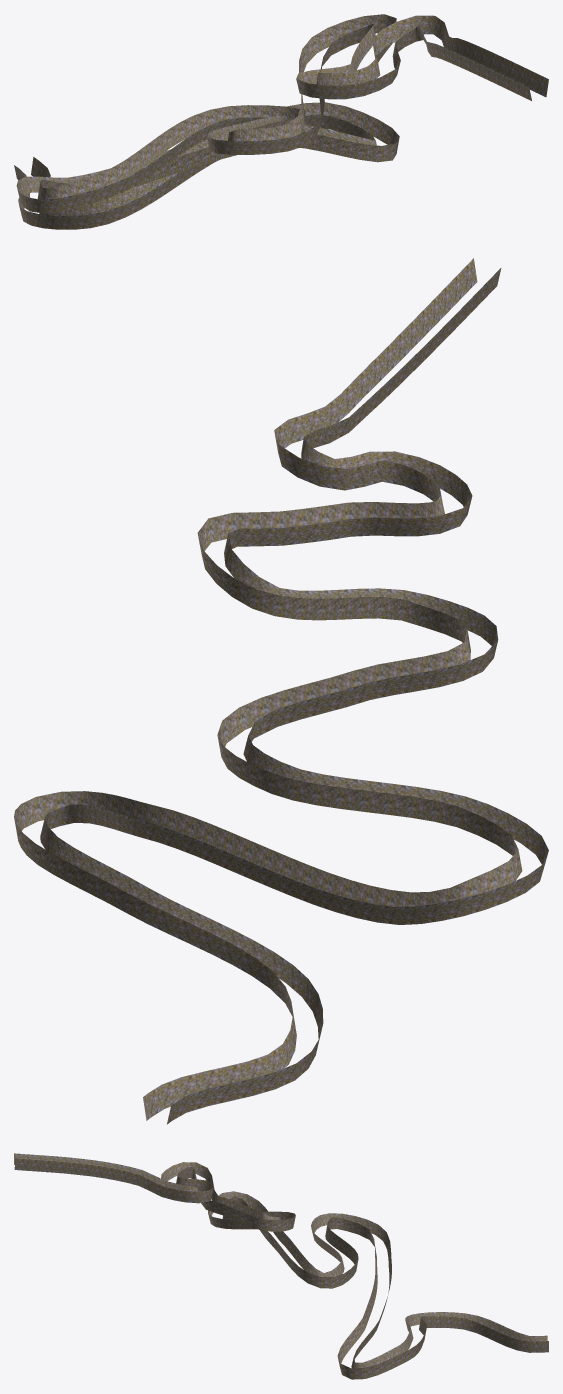
The model's file is Road_walls.fbx.
3 renders of one model, top to bottom at view 1: azimuth 30°, elevation 25°; view 2: azimuth 150°, elevation 25°; view 3: azimuth 270°, elevation 25°, orthographic. The views are drawn at different scales.
Visible parts, largest first — view 1: PM3D_Road_Mesh_Holder_002.001; view 2: PM3D_Road_Mesh_Holder_002.001; view 3: PM3D_Road_Mesh_Holder_002.001.
Part boxes in pixels (bbox=[...]): PM3D_Road_Mesh_Holder_002.001: bbox=[14, 14, 548, 229]; PM3D_Road_Mesh_Holder_002.001: bbox=[14, 258, 548, 1124]; PM3D_Road_Mesh_Holder_002.001: bbox=[14, 1153, 548, 1379].
Bounding box in the file's own units: 106621 × 92015 × 186025.
